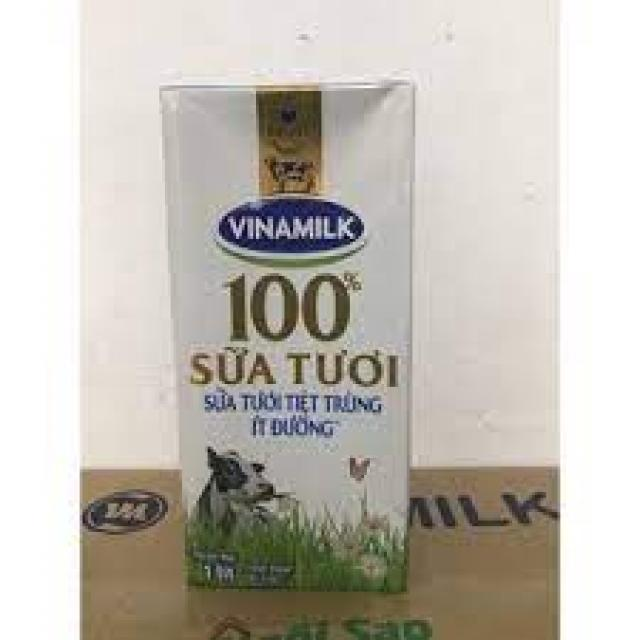non_white_jug: (139, 61, 438, 610)
